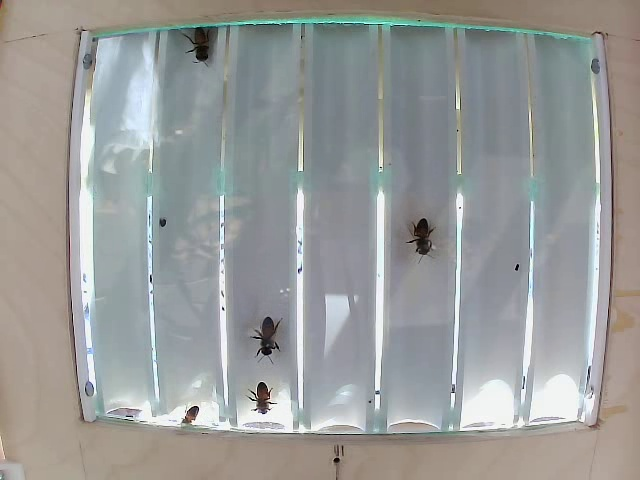bee: (194, 27, 231, 71), (406, 206, 435, 256), (248, 318, 280, 354), (246, 373, 280, 406)
